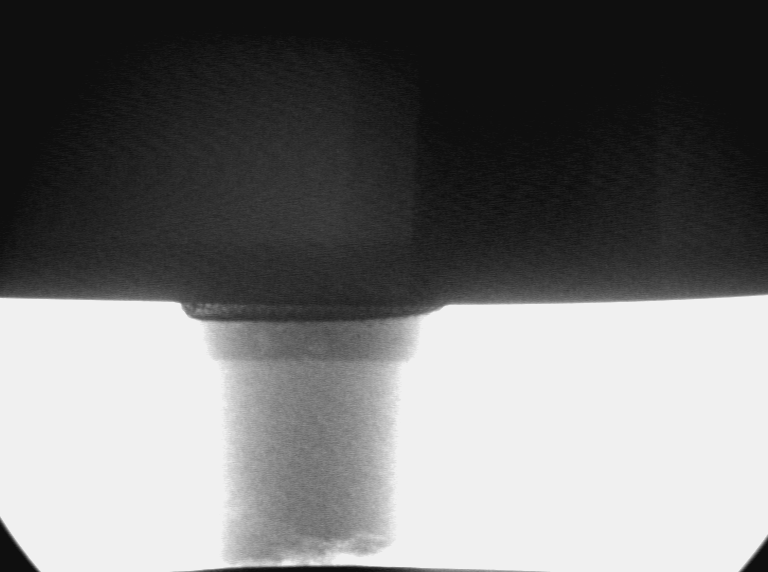defect: (306, 334, 332, 357)
